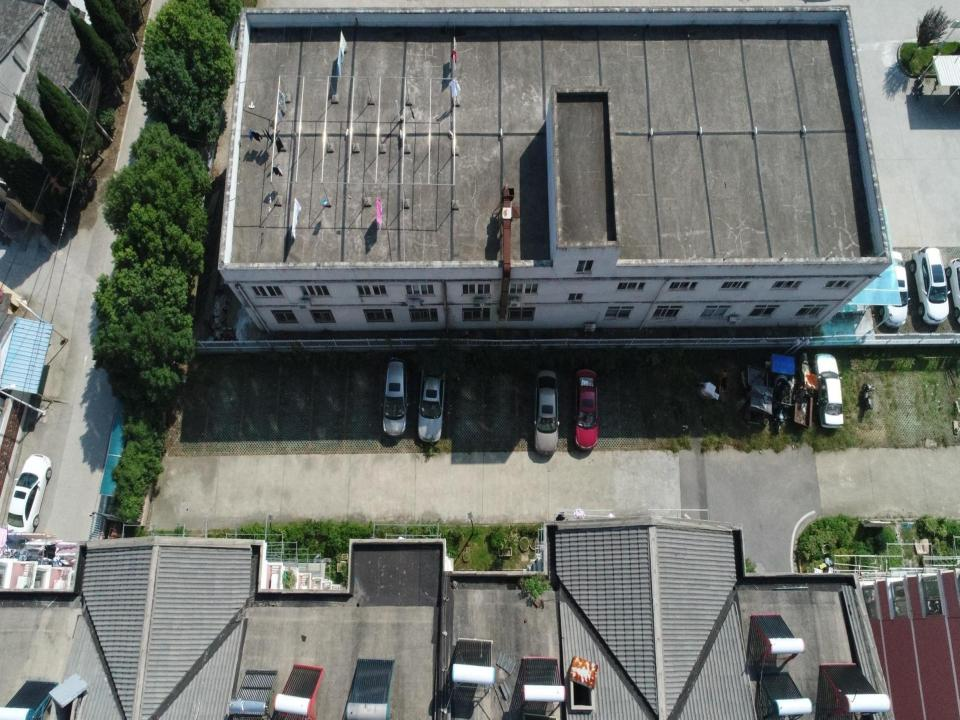car: (6, 454, 52, 539), (910, 246, 950, 325), (875, 251, 911, 328), (379, 357, 410, 436), (418, 360, 447, 443), (573, 368, 601, 451), (534, 369, 560, 456), (814, 353, 843, 428), (946, 257, 959, 326)
